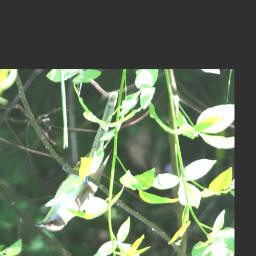Cuckoo: (32, 92, 119, 232)
